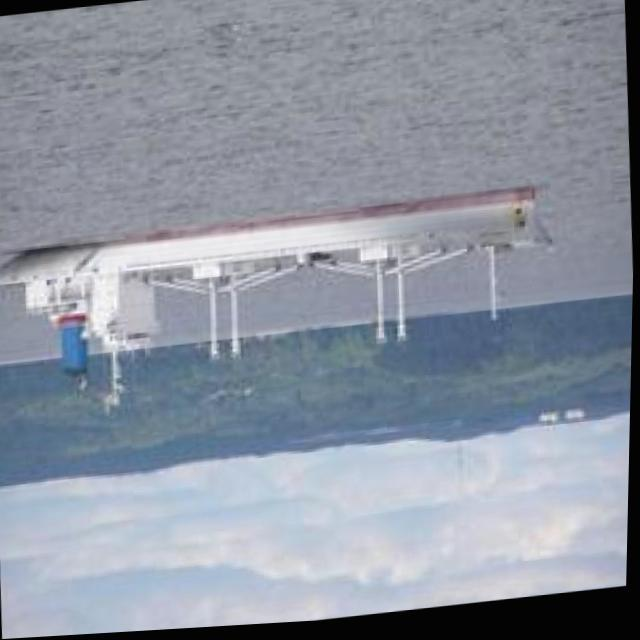ship2: (0, 196, 564, 410)
